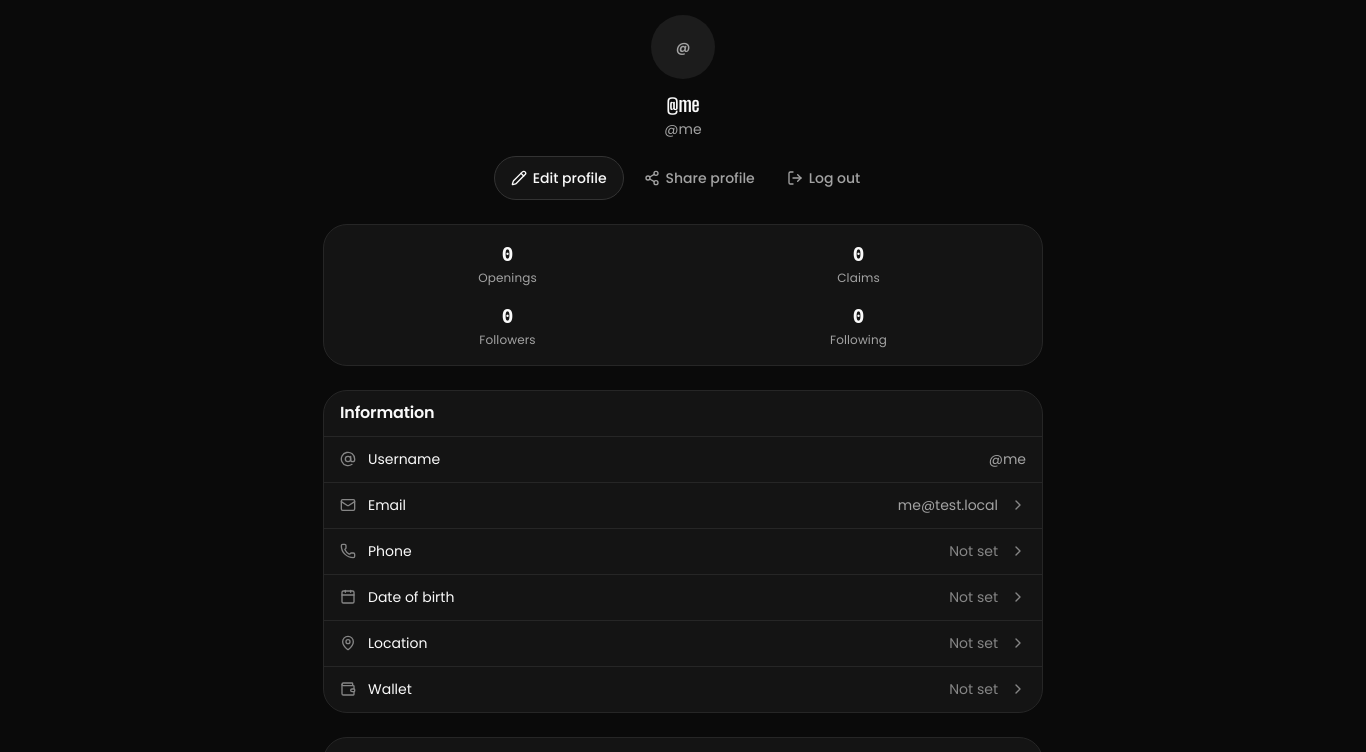
Test case: Profile — field-specific edit (Phase 5n-B) › clears an optional field by saving it empty
This screenshot has width=1366, height=752.
Click the button "Phone Not set" at [390, 551], box [324, 528, 1042, 574]
(page scrolled)
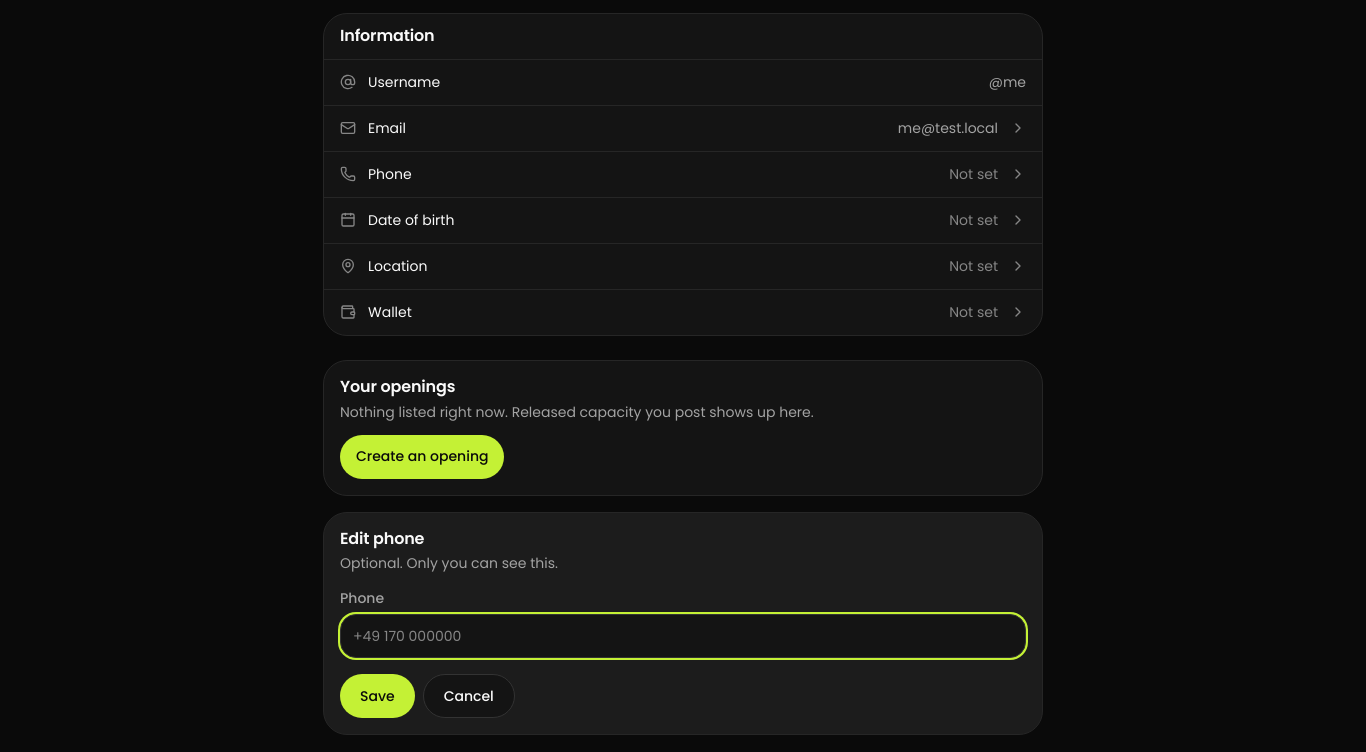
Expected: the field labelled "Phone" is shown, [340, 614, 1026, 658]
Click the button "Save" at [377, 696], box [340, 674, 415, 718]
(page scrolled)
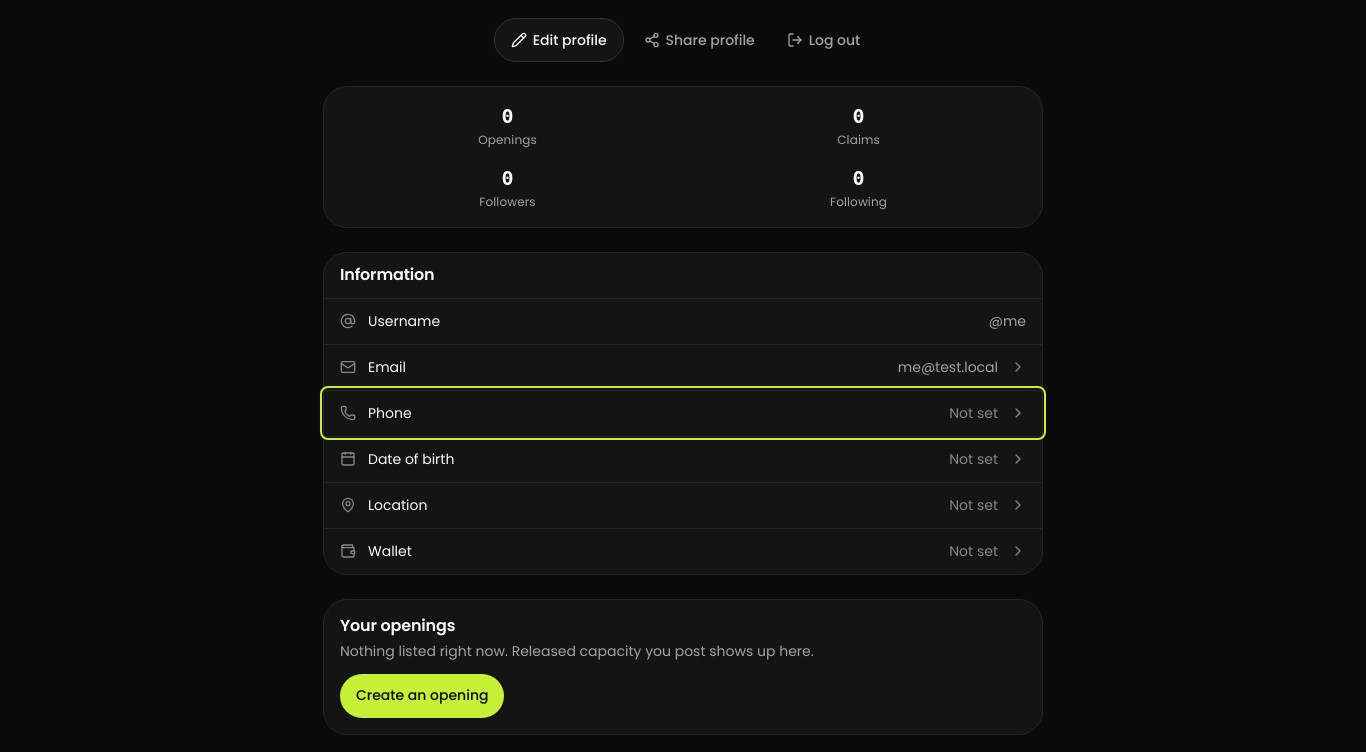
Expected: the dialog is gone
